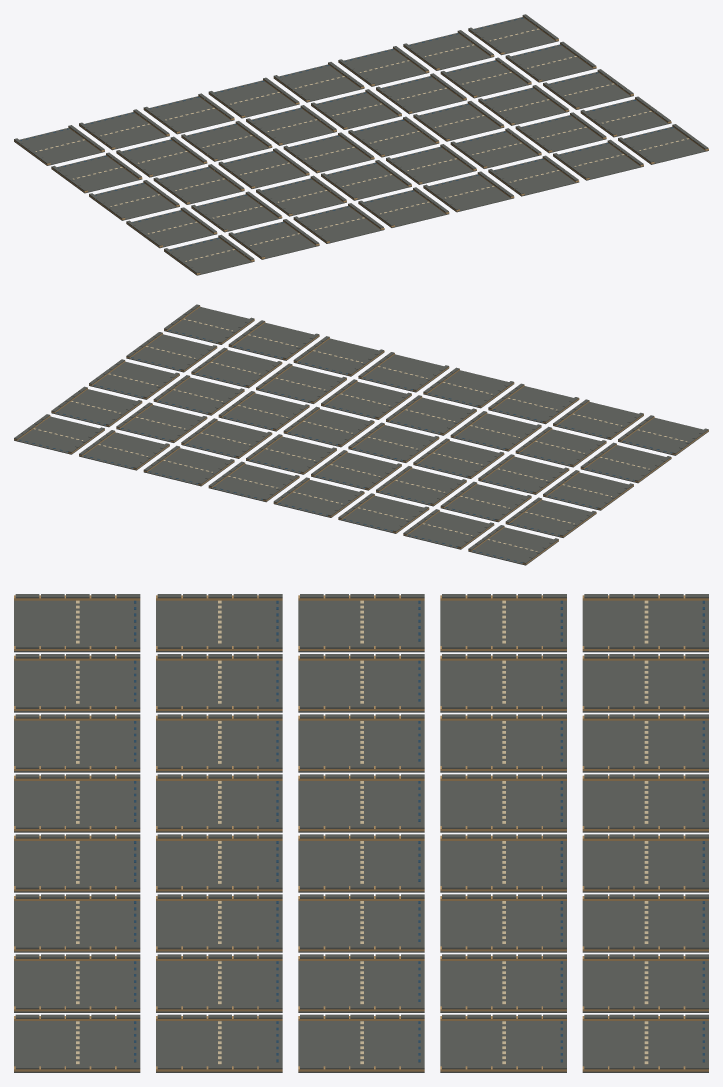
The model's file is road_street_collection.obj.
3 views of the same model, one above another, from view 1: azimuth 30°, elevation 25°; view 2: azimuth 150°, elevation 25°; view 3: azimuth 270°, elevation 25° (orthographic). The views are drawn at different scales.
Visible parts, largest first — view 1: road_20_asphalt, road_4_asphalt, road_21_asphalt, road_31_asphalt, road_2_asphalt, road_6_asphalt, road_8_asphalt, road_16_asphalt, road_29_asphalt, road_30_asphalt, road_34_asphalt, road_1_asphalt (+28 smaller); view 2: road_19_asphalt, road_15_asphalt, road_3_asphalt, road_16_asphalt, road_27_asphalt, road_39_asphalt, road_1_asphalt, road_14_asphalt, road_29_asphalt, road_32_asphalt, road_34_asphalt, road_6_asphalt (+28 smaller); view 3: road_17_asphalt, road_25_asphalt, road_16_asphalt, road_24_asphalt, road_1_asphalt, road_9_asphalt, road_33_asphalt, road_0_asphalt, road_8_asphalt, road_18_asphalt, road_26_asphalt, road_32_asphalt (+28 smaller).
Boxes of the visible parts, bbox=[...] form: road_20_asphalt: bbox=[348, 119, 439, 157]; road_4_asphalt: bbox=[273, 64, 364, 102]; road_21_asphalt: bbox=[413, 103, 504, 141]; road_31_asphalt: bbox=[581, 99, 671, 137]; road_2_asphalt: bbox=[143, 96, 234, 134]; road_6_asphalt: bbox=[403, 33, 494, 70]; road_8_asphalt: bbox=[51, 155, 142, 193]; road_16_asphalt: bbox=[89, 182, 179, 220]; road_29_asphalt: bbox=[450, 131, 541, 168]; road_30_asphalt: bbox=[515, 115, 606, 153]; road_34_asphalt: bbox=[293, 206, 384, 243]; road_1_asphalt: bbox=[79, 112, 169, 150]; road_19_asphalt: bbox=[348, 425, 439, 462]; road_15_asphalt: bbox=[51, 389, 142, 427]; road_3_asphalt: bbox=[273, 480, 364, 517]; road_16_asphalt: bbox=[543, 472, 633, 510]; road_27_asphalt: bbox=[386, 397, 476, 435]; road_39_asphalt: bbox=[164, 307, 254, 344]; road_1_asphalt: bbox=[403, 511, 494, 549]; road_14_asphalt: bbox=[116, 405, 207, 442]; road_29_asphalt: bbox=[256, 366, 346, 403]; road_32_asphalt: bbox=[618, 417, 708, 455]; road_34_asphalt: bbox=[488, 386, 579, 424]; road_6_asphalt: bbox=[79, 432, 169, 470]; road_17_asphalt: bbox=[298, 660, 424, 712]; road_25_asphalt: bbox=[156, 660, 282, 712]; road_16_asphalt: bbox=[298, 600, 424, 652]; road_24_asphalt: bbox=[156, 600, 282, 652]; road_1_asphalt: bbox=[582, 660, 708, 712]; road_9_asphalt: bbox=[440, 660, 566, 712]; road_33_asphalt: bbox=[14, 660, 140, 712]; road_0_asphalt: bbox=[582, 600, 708, 652]; road_8_asphalt: bbox=[440, 600, 566, 652]; road_18_asphalt: bbox=[298, 720, 424, 772]; road_26_asphalt: bbox=[156, 720, 282, 772]; road_32_asphalt: bbox=[14, 600, 140, 652].
Bounding box in the file's own units: 142 × 0.7 × 88.
